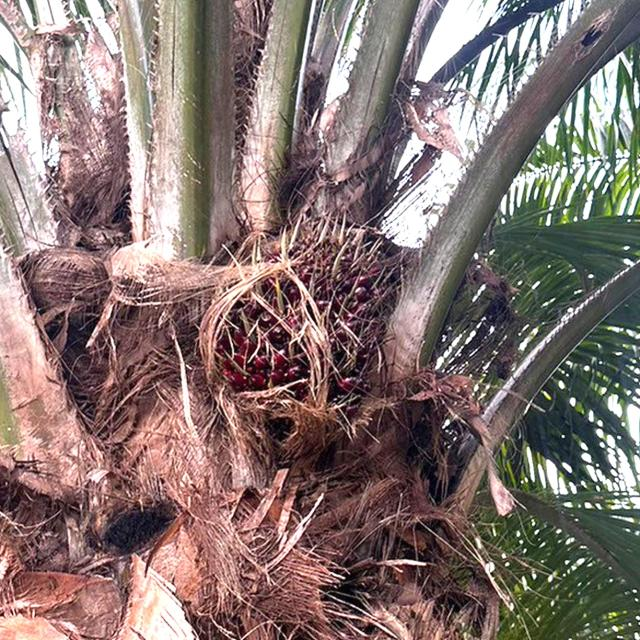ripe: (188, 196, 423, 428)
